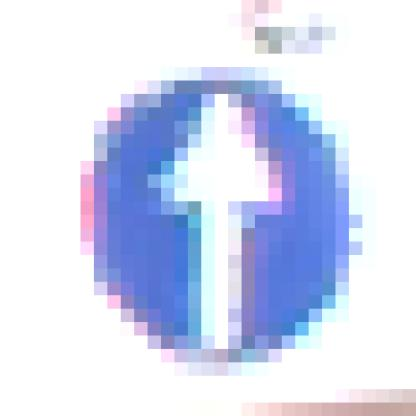AheadOnly: (81, 68, 350, 350)
